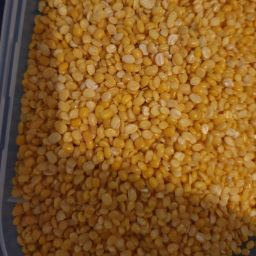Red Split Lentils(malka masar): (24, 75, 205, 256), (92, 64, 253, 255), (101, 6, 256, 155), (36, 4, 155, 188)
